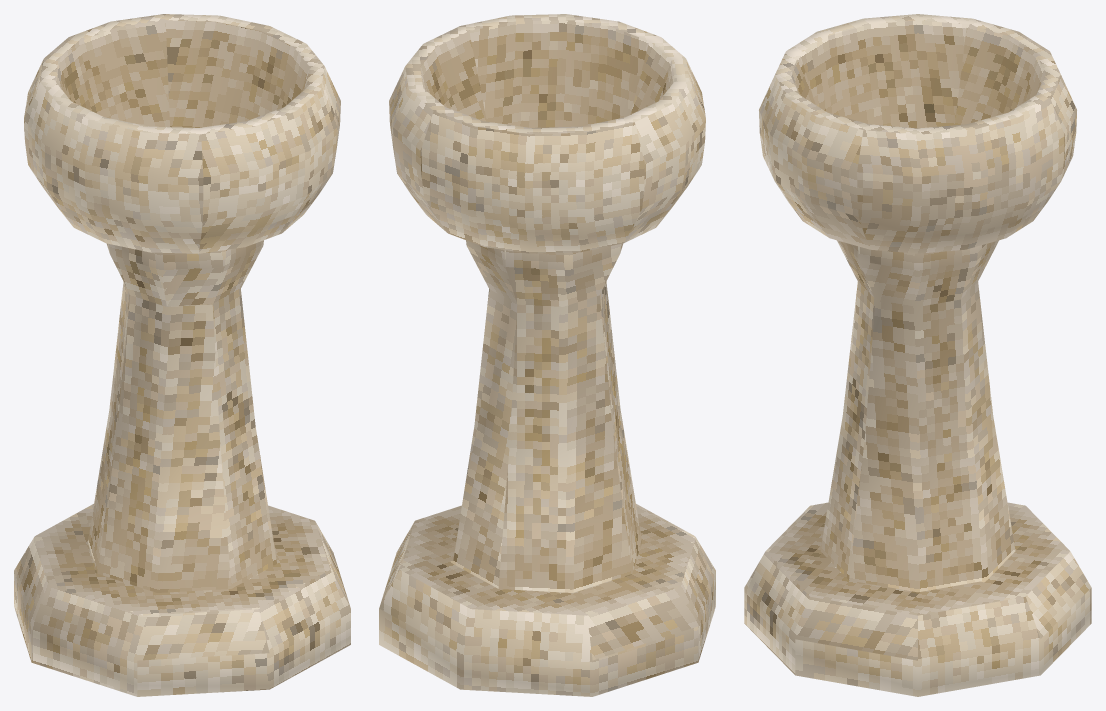
File: Holy_Vase.gltf
3 views of the same model, side by side, from view 1: azimuth 30°, elevation 25°; view 2: azimuth 150°, elevation 25°; view 3: azimuth 270°, elevation 25° (orthographic).
Parts seen in each view (by area): view 1: Holy_Vase; view 2: Holy_Vase; view 3: Holy_Vase.
Part boxes in pixels (<box>): Holy_Vase: <box>14,14,350,696</box>; Holy_Vase: <box>379,14,715,696</box>; Holy_Vase: <box>744,14,1091,696</box>.
Size of the model in its own units: 1.91 by 3.34 by 1.91.
Materials: 1 (1 with a texture image).
